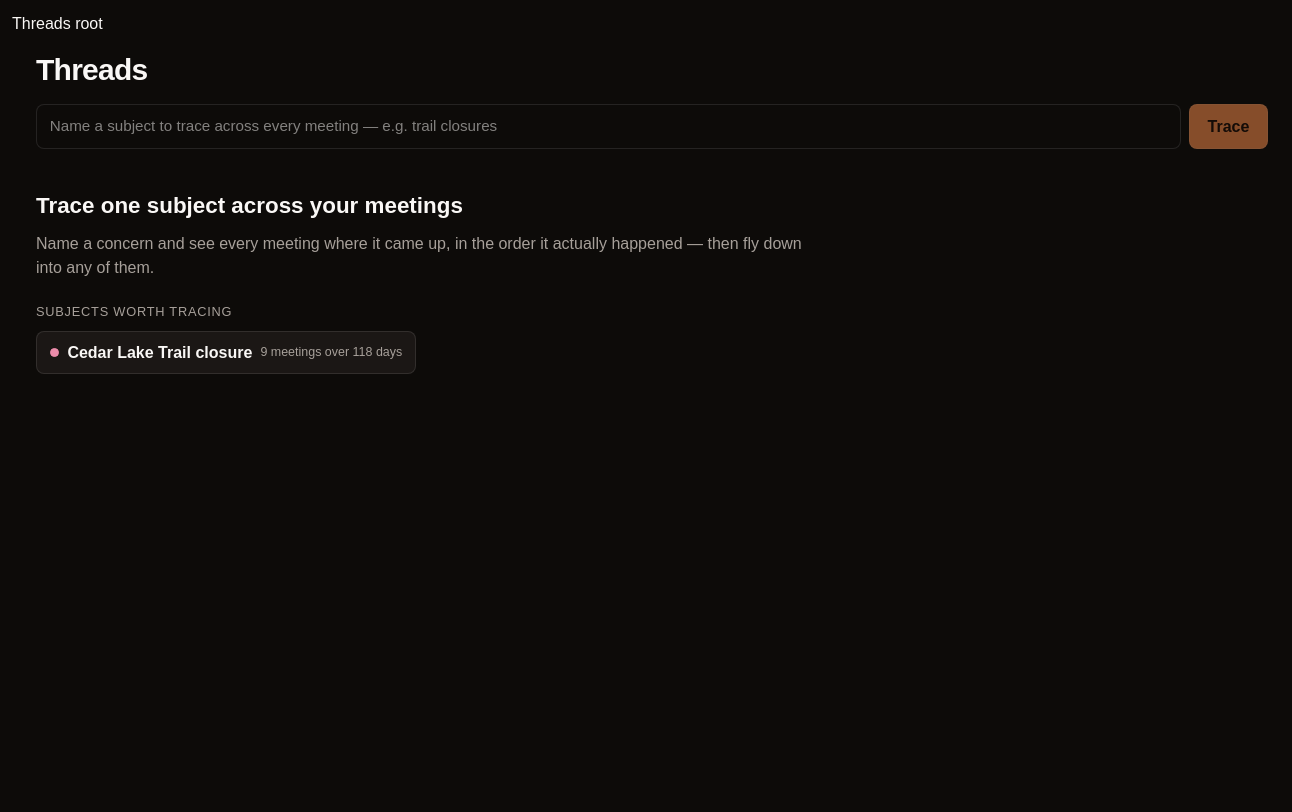
the timeline › opens the meeting view when a meeting is clicked
This screenshot has width=1292, height=812.
Click the button "Cedar Lake Trail closure 9 meetings over 118 days". click: click(226, 353)
box: 36,331 -> 416,374
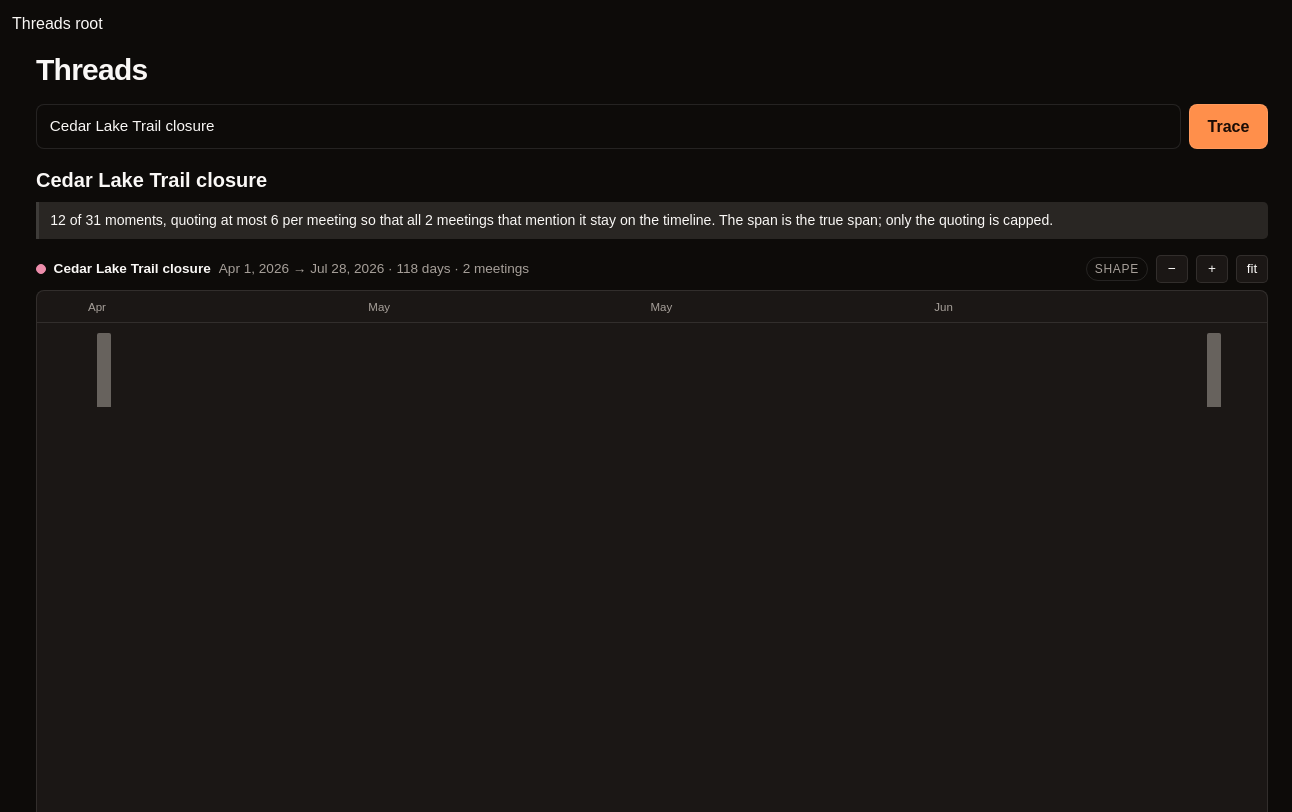
Click the 1st button with class "mm-trace-bar-item". click: click(104, 370)
box: 97,333 -> 111,407
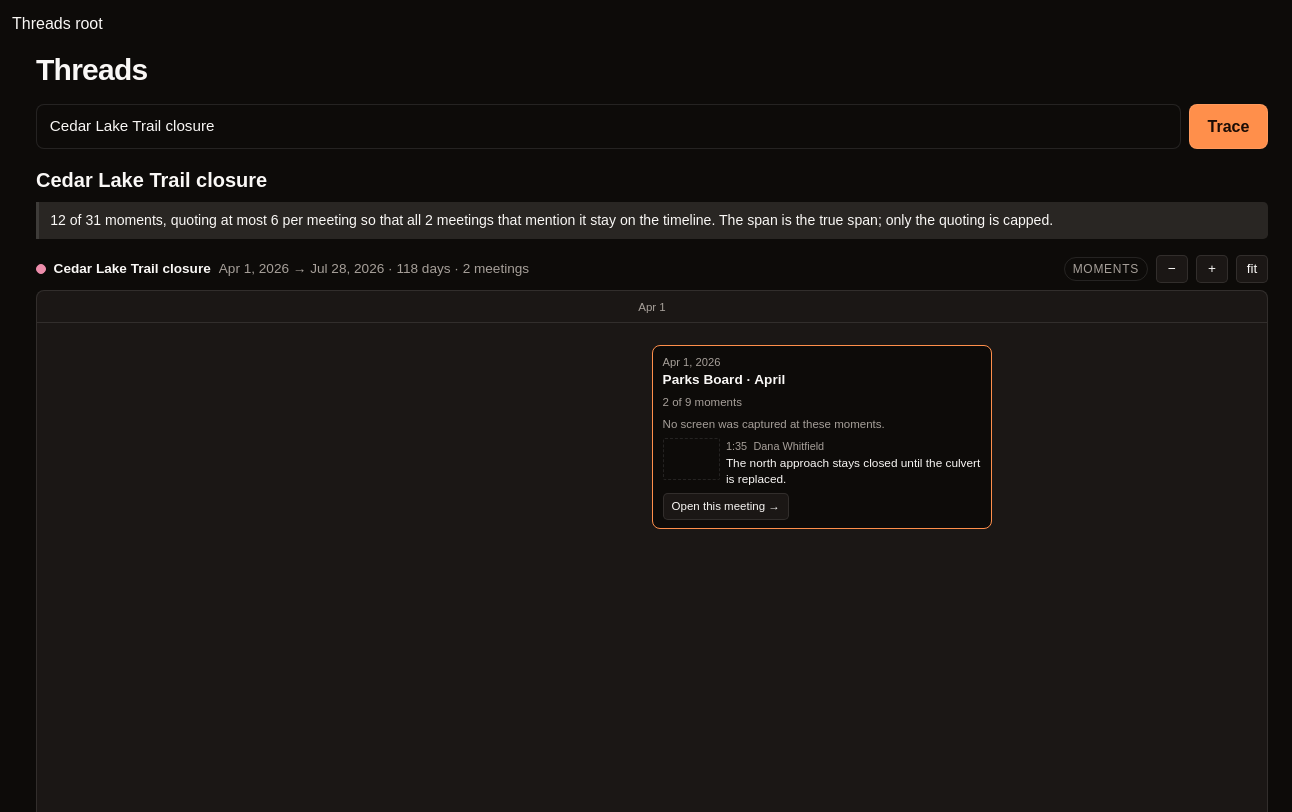
Click the button "Open this meeting →". click: click(726, 506)
box: 663,493 -> 789,520
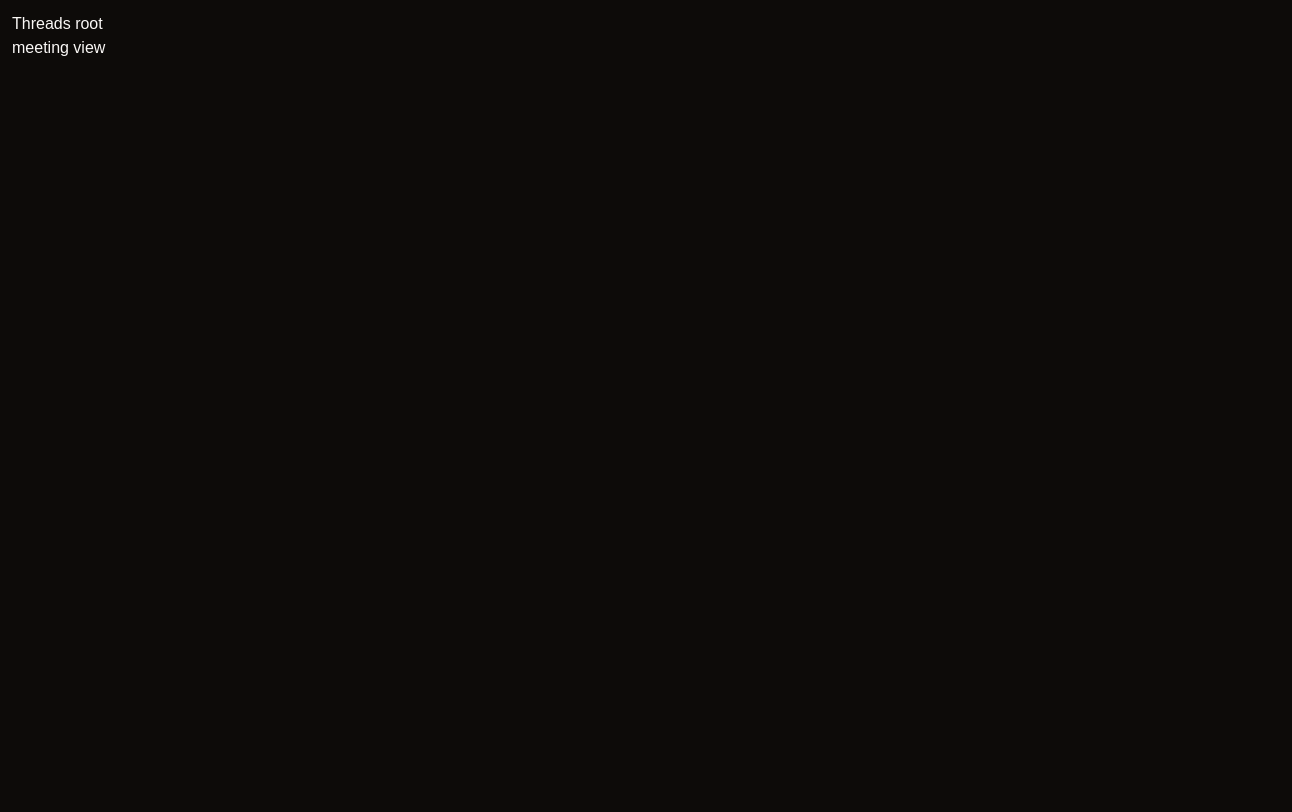
expect the text "meeting view" is shown: met, box 12,39 -> 105,56
